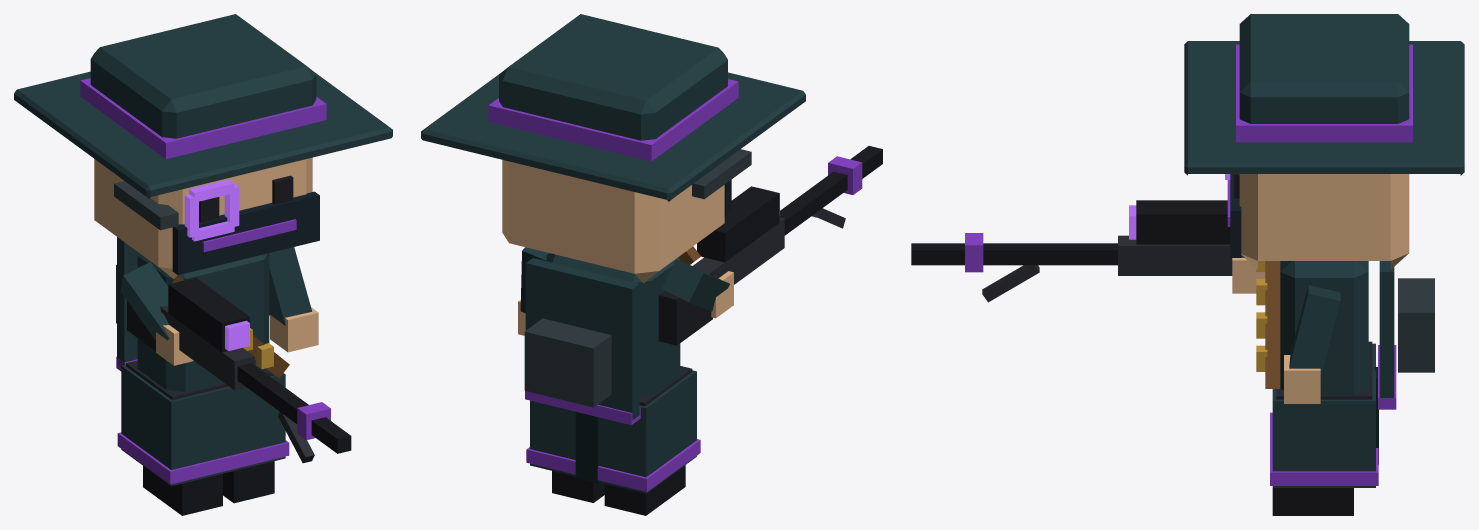
Rendered from sniper_rare.glb.
3 views of the same model, side by side, from view 1: azimuth 30°, elevation 25°; view 2: azimuth 150°, elevation 25°; view 3: azimuth 270°, elevation 25° (orthographic). The views are drawn at different scales.
Visible parts, largest first — view 1: sniper_rare_mesh; view 2: sniper_rare_mesh; view 3: sniper_rare_mesh.
Part boxes in pixels (x1=…): sniper_rare_mesh: x1=14, y1=14, x2=392, y2=515; sniper_rare_mesh: x1=421, y1=14, x2=882, y2=515; sniper_rare_mesh: x1=911, y1=14, x2=1464, y2=515.
Bounding box in the file's own units: 0.782 × 1.3 × 1.47.
2 materials, 2 textured.
